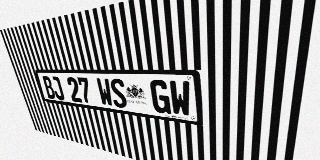2: (66, 77, 82, 103)
7: (76, 77, 93, 104)
B: (42, 76, 56, 99)
G: (149, 80, 171, 114)
J: (50, 76, 65, 100)
S: (109, 78, 128, 109)
W: (169, 80, 192, 117), (96, 78, 114, 107)
